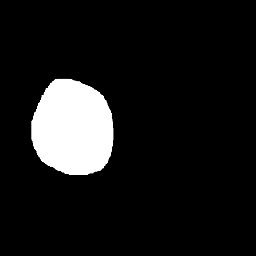mass: (33, 80, 103, 169)
